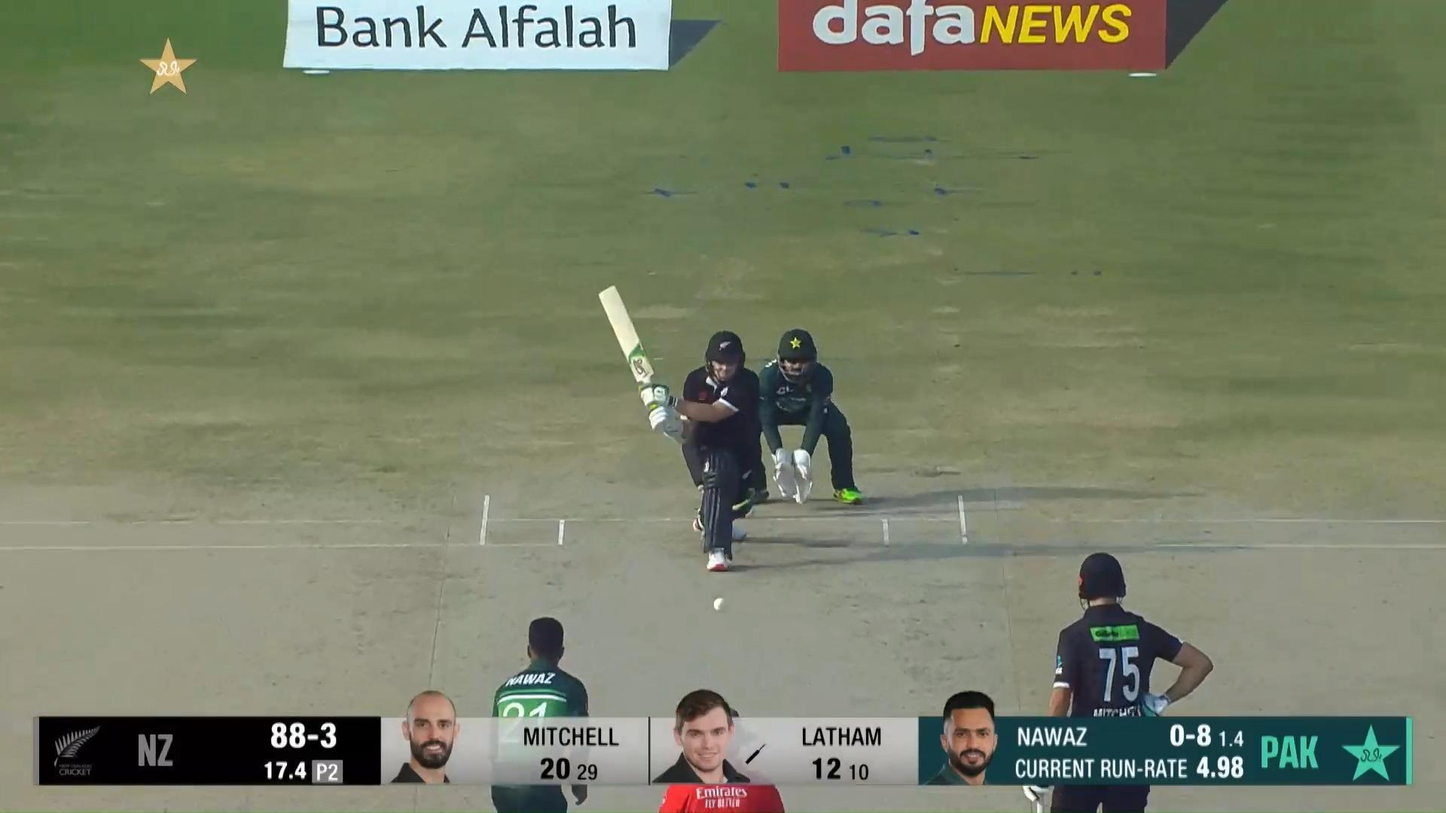BM 1: (599, 284, 761, 572)
BO: (489, 615, 589, 813)
